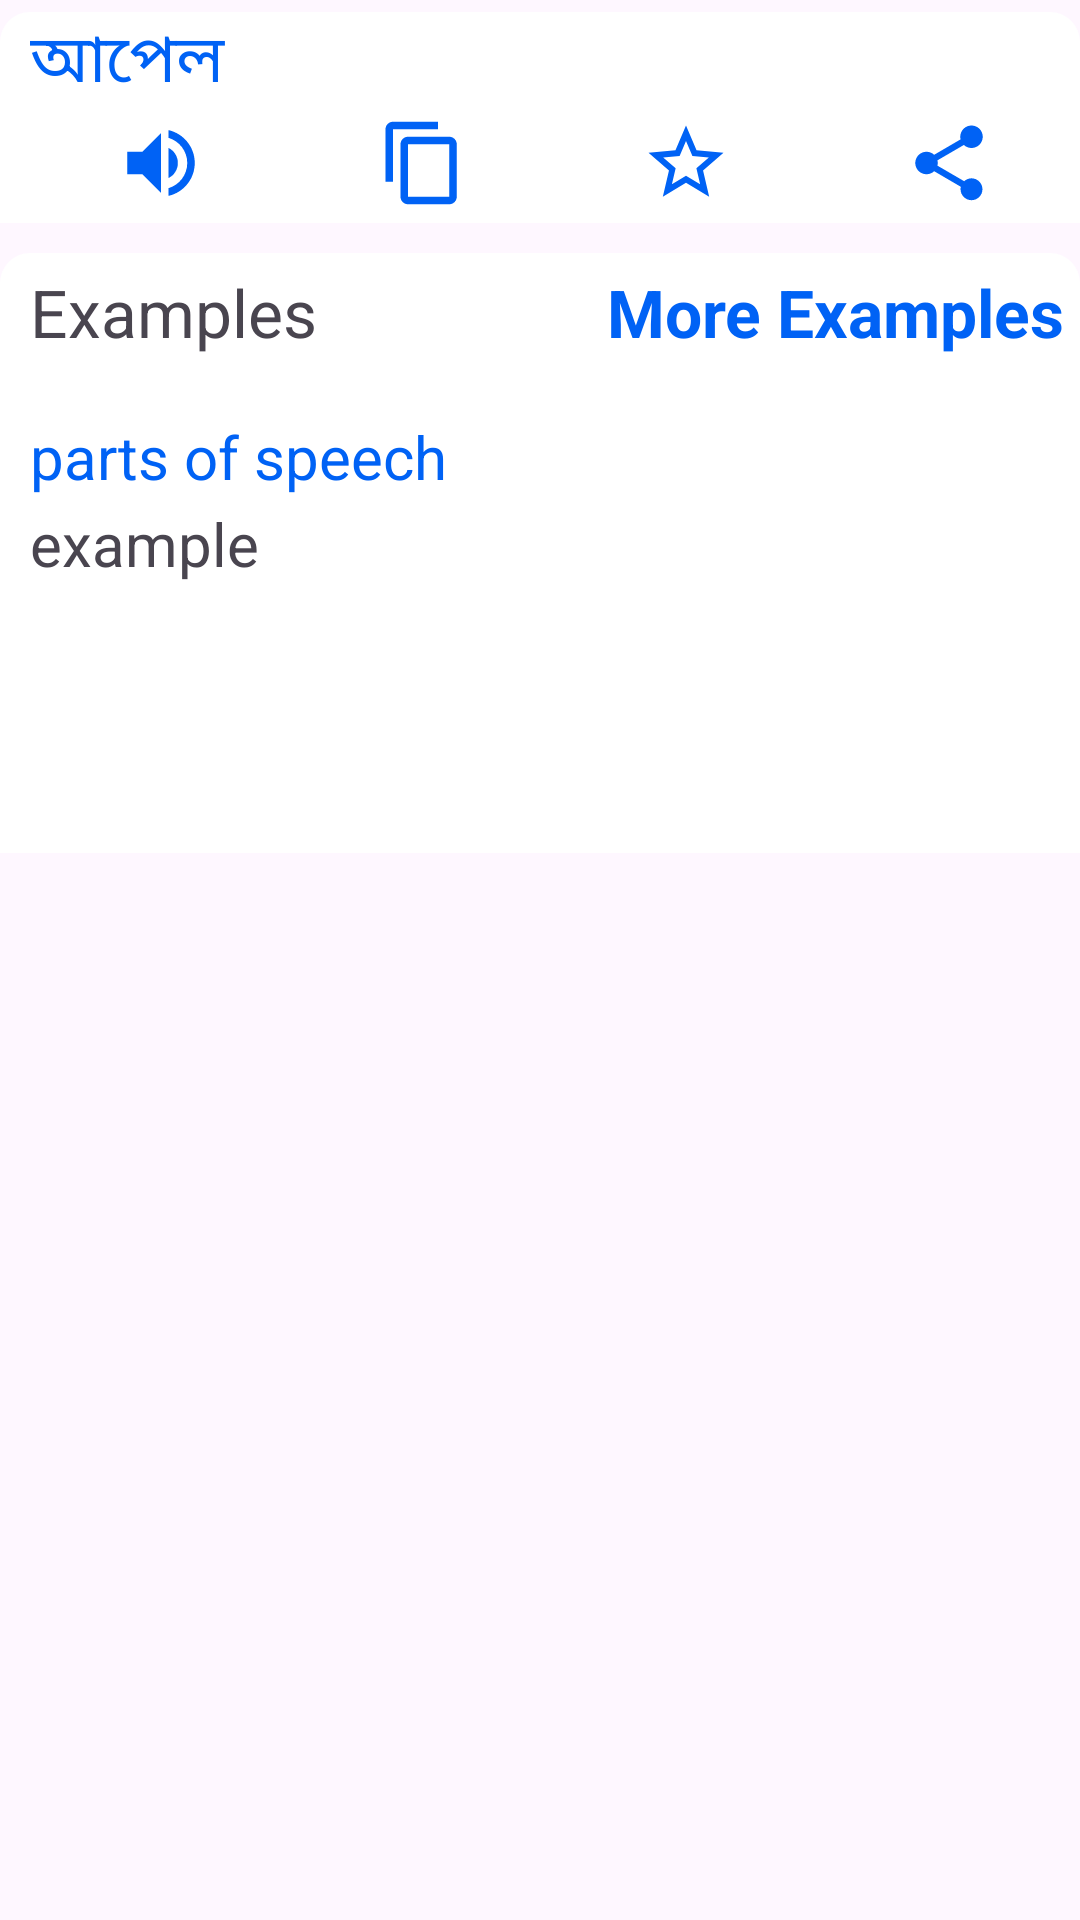

Locate icon controls on the screen. Image size 1080w x 1920h, boxes as (left=x1, top=y1, right=x2, bottom=y2).
share: (left=915, top=125, right=983, bottom=201)
star offline: (left=649, top=126, right=723, bottom=197)
volume up: (left=127, top=130, right=195, bottom=196)
